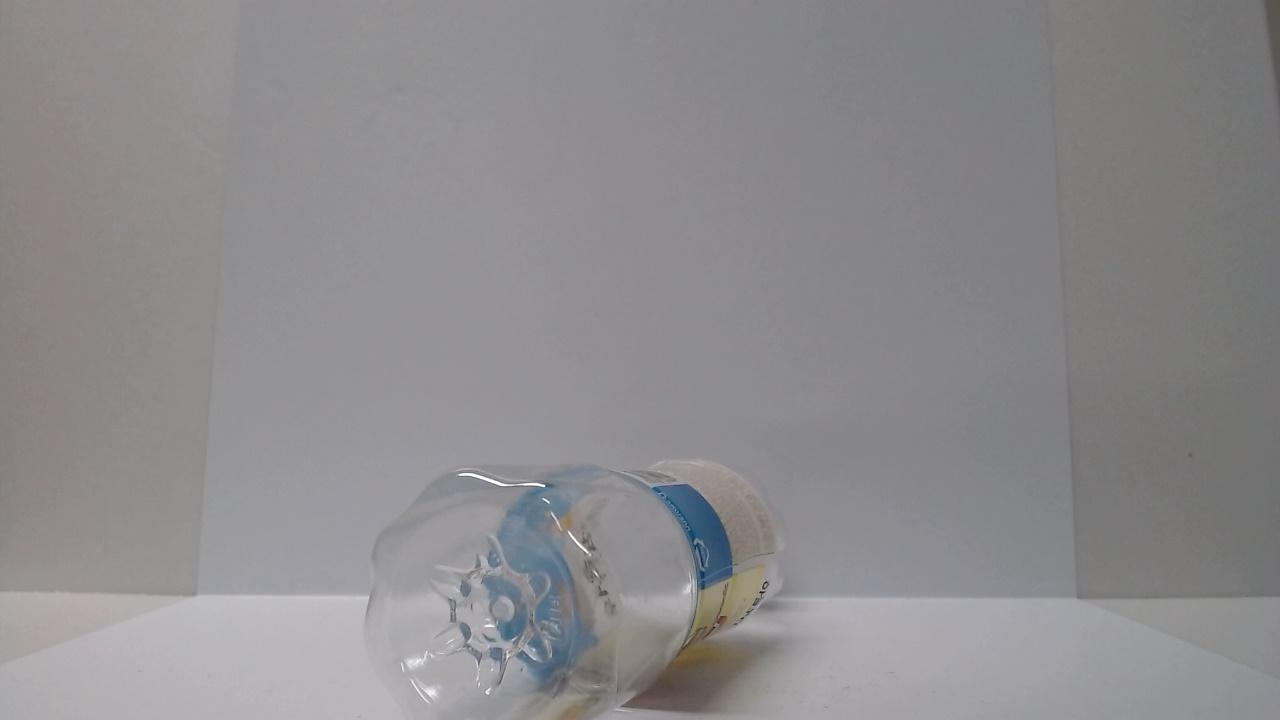bottle: (340, 350, 814, 662)
